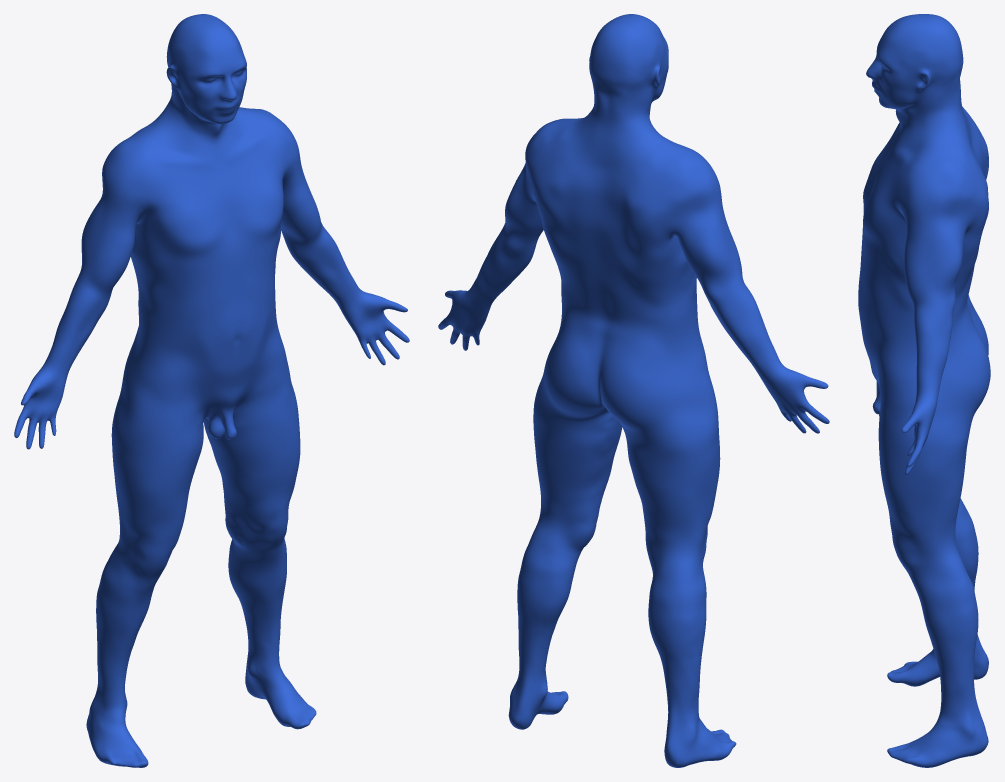
Rendered from VH_M_Skin.glb.
3 renders of one model, left to right at view 1: azimuth 30°, elevation 25°; view 2: azimuth 150°, elevation 25°; view 3: azimuth 270°, elevation 25°, orthographic. The views are drawn at different scales.
Parts seen in each view (by area): view 1: VH_M_skin; view 2: VH_M_skin; view 3: VH_M_skin.
Part boxes in pixels (box(x1,y1,x2,y2)): VH_M_skin: box(14, 14, 409, 767); VH_M_skin: box(438, 14, 829, 767); VH_M_skin: box(858, 14, 990, 767).
Bounding box in the file's own units: 1.05 × 1.83 × 0.3115.
